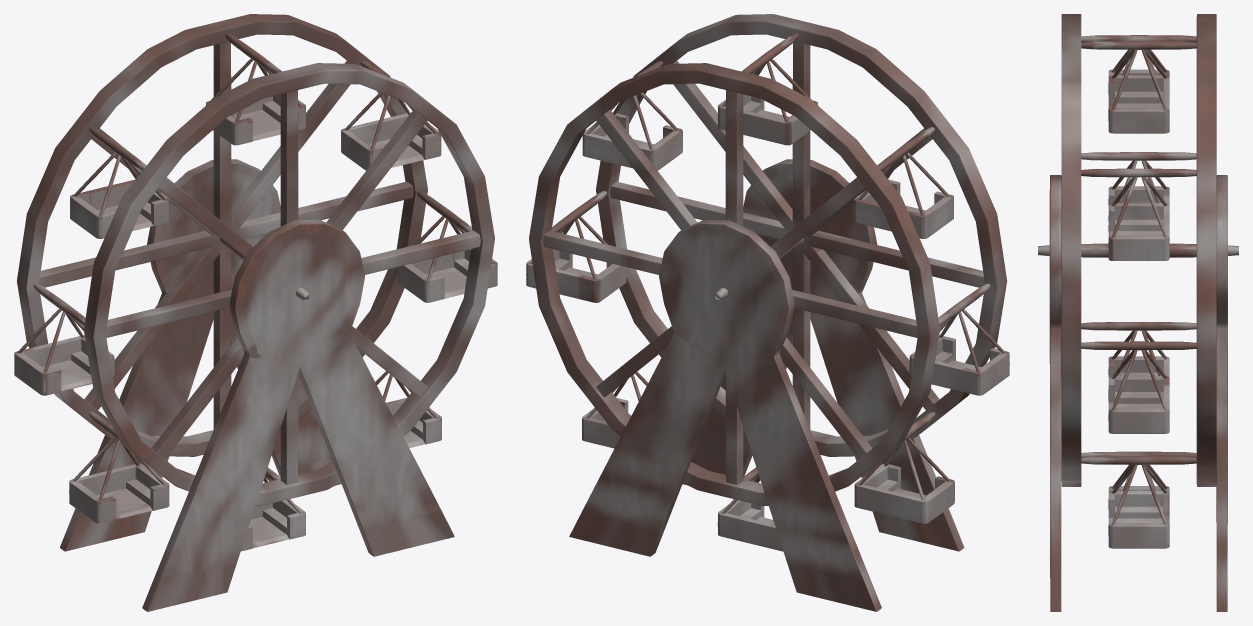
Rendered from Ferris_wheel.fbx.
3 renders of one model, left to right at view 1: azimuth 30°, elevation 25°; view 2: azimuth 150°, elevation 25°; view 3: azimuth 270°, elevation 25°, orthographic.
Parts seen in each view (by area): view 1: Wheel, Leg_L, pCube1 (×8), Leg_R; view 2: Wheel, Leg_R, pCube1 (×8), Leg_L; view 3: Wheel, pCube1 (×6), pCylinder1 (×8), Leg_L, Leg_R, Axis.
Boxes of the visible parts, x1,y1,x2,y2 form: Wheel: [17, 14, 494, 505]; Leg_L: [142, 219, 454, 611]; pCube1 (×8): [14, 94, 497, 551]; Leg_R: [60, 159, 341, 551]; Wheel: [529, 14, 1007, 505]; Leg_R: [569, 219, 881, 611]; pCube1 (×8): [526, 94, 1009, 551]; Leg_L: [682, 159, 964, 551]; Wheel: [1061, 14, 1216, 486]; pCube1 (×6): [1108, 75, 1169, 548]; pCylinder1 (×8): [1081, 35, 1196, 464]; Leg_L: [1049, 175, 1061, 611]; Leg_R: [1216, 175, 1227, 611]; Axis: [1038, 243, 1238, 257].
Bounding box in the file's own units: 2.51 × 2.59 × 0.9488.
